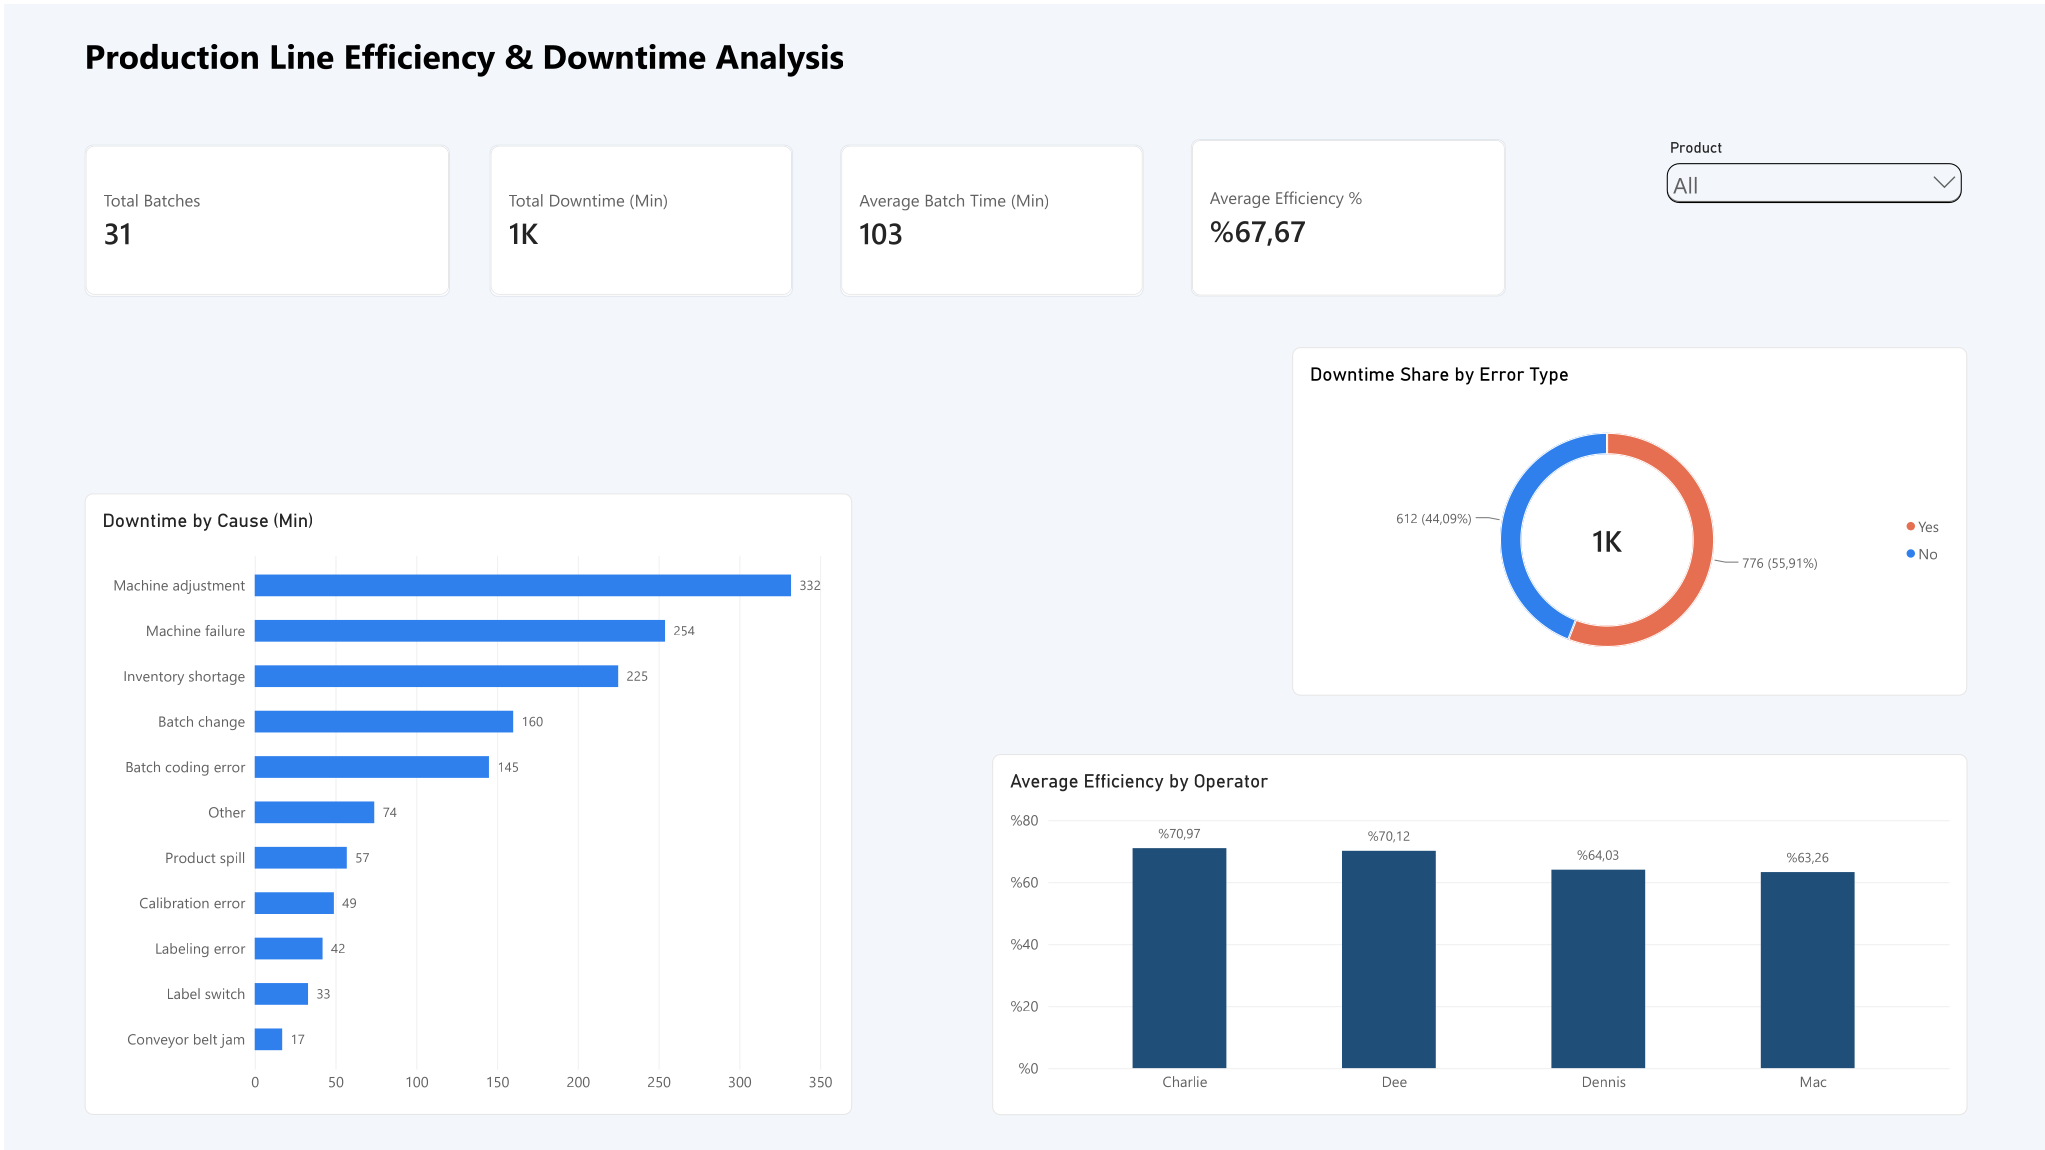

Layout of this report page (visuals, bound fields, positions):
{"tool":"powerbi","page":{"name":"Page 1","canvas":[1920,1080],"ordinal":0},"visuals":[{"type":"cardVisual","fields":{"Data":["downtime-factors.Total Batches"]},"box":[76.8,133.9,348.2,144.6],"z":0},{"type":"cardVisual","fields":{"Data":["downtime-factors.Total Downtime"]},"box":[462.5,133.9,289.3,144.6],"z":1000},{"type":"cardVisual","fields":{"Data":["line-productivity.Average Batch Time (Min)"]},"box":[796.4,133.9,289.3,144.6],"z":2000},{"type":"cardVisual","fields":{"Data":["line-productivity.Average Efficiency %"]},"box":[1130.4,128.6,300,150],"z":3000},{"type":"clusteredBarChart","title":"Downtime by Cause (Min)","fields":{"Category":["downtime-factors.Description"],"Y":["downtime-factors.Total Downtime"]},"box":[76.9,466.2,730.8,592.3],"z":4000},{"type":"clusteredColumnChart","title":"Average Efficiency by Operator","fields":{"Category":["line-productivity.Operator"],"Y":["line-productivity.Average Efficiency %"]},"box":[941.1,714.3,928.6,344],"z":5000},{"type":"donutChart","title":"Downtime Share by Error Type","fields":{"Category":["downtime-factors.Operator Error"],"Y":["downtime-factors.Total Downtime"]},"box":[1226.8,326.8,642.9,332],"z":6000},{"type":"textbox","box":[76.8,26.8,796.4,119.6],"z":7000},{"type":"slicer","fields":{"Values":["line-productivity.Product"]},"box":[1578.6,128.6,291.1,146.4],"z":8000}]}

Visuals, with their boxes in screenshot pixels (x1, y1, x2, y2), scaled from the page's 1920x1080 canvas onto the 2045x1150 screenshot:
cardVisual - downtime-factors.Total Batches: 82 143 453 297
cardVisual - downtime-factors.Total Downtime: 493 143 801 297
cardVisual - line-productivity.Average Batch Time (Min): 848 143 1156 297
cardVisual - line-productivity.Average Efficiency %: 1204 137 1524 297
"Downtime by Cause (Min)" clusteredBarChart: 82 496 860 1127
"Average Efficiency by Operator" clusteredColumnChart: 1002 761 1991 1127
"Downtime Share by Error Type" donutChart: 1307 348 1991 702
textbox: 82 29 930 156
slicer - line-productivity.Product: 1681 137 1991 293
